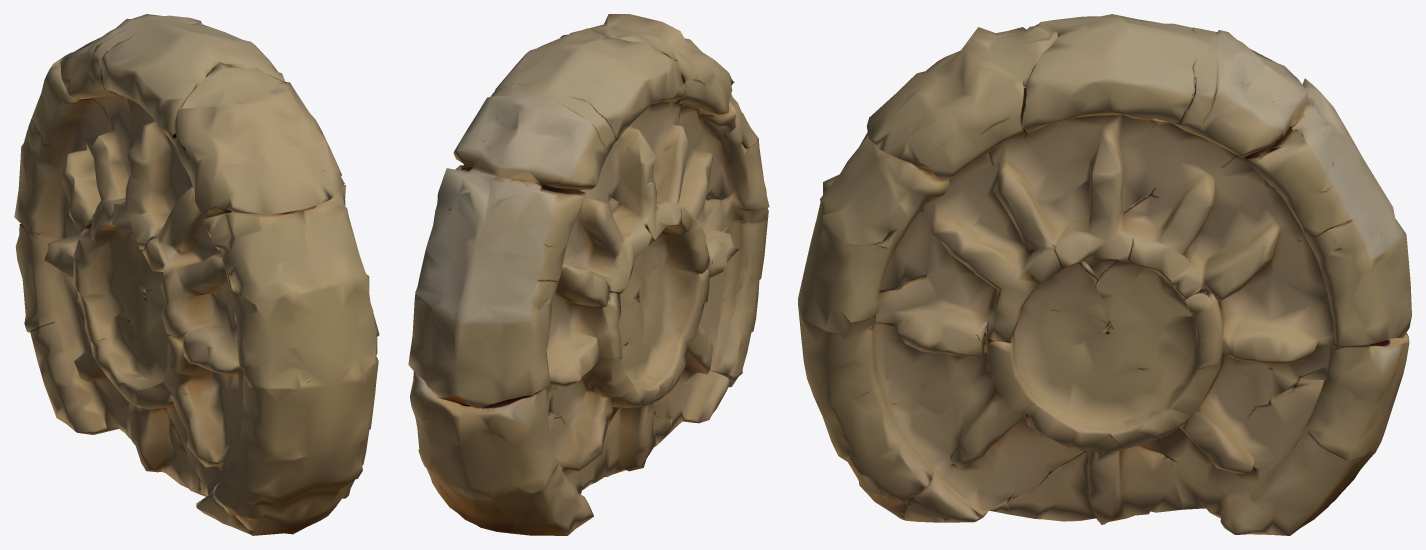
The model's file is biome-deserto.glb.
The picture shows the model from 3 angles, left to right: view 1: azimuth 30°, elevation 25°; view 2: azimuth 150°, elevation 25°; view 3: azimuth 270°, elevation 25°; orthographic projection. The views are drawn at different scales.
Visible parts, largest first — view 1: tripo_node_f0283baf-cb23-4577-aa96-9db4be7cc2bf; view 2: tripo_node_f0283baf-cb23-4577-aa96-9db4be7cc2bf; view 3: tripo_node_f0283baf-cb23-4577-aa96-9db4be7cc2bf.
Part boxes in pixels (box(x1,y1,x2,y2)): tripo_node_f0283baf-cb23-4577-aa96-9db4be7cc2bf: box(14, 14, 379, 535); tripo_node_f0283baf-cb23-4577-aa96-9db4be7cc2bf: box(408, 14, 769, 535); tripo_node_f0283baf-cb23-4577-aa96-9db4be7cc2bf: box(798, 14, 1411, 535).
Size of the model in its own units: 0.3233 by 0.8683 by 1.
1 material, 1 textured.
